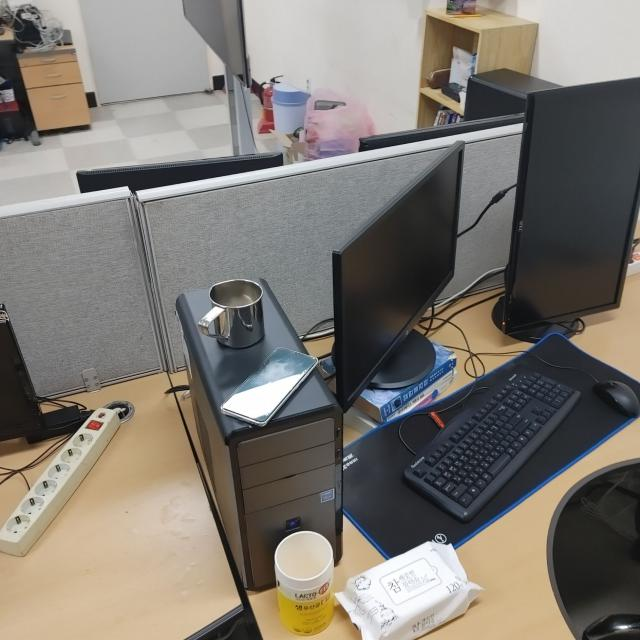cup: (196, 276, 266, 350)
phone: (222, 345, 320, 434)
